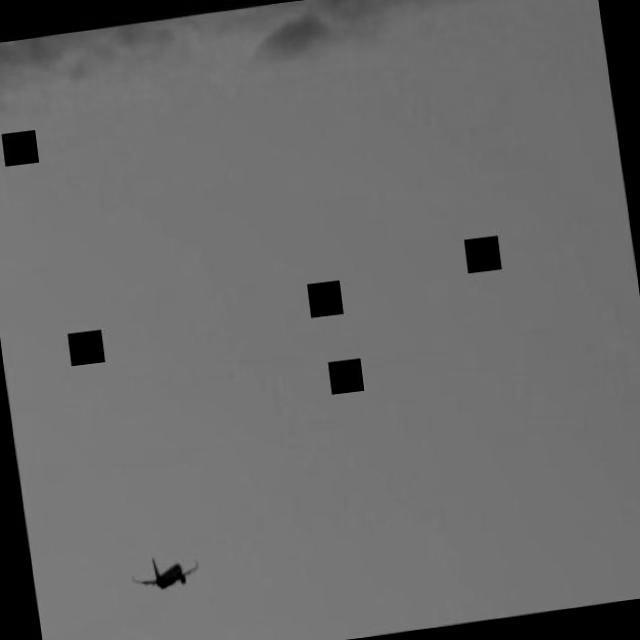aeroplane: (128, 545, 204, 598)
